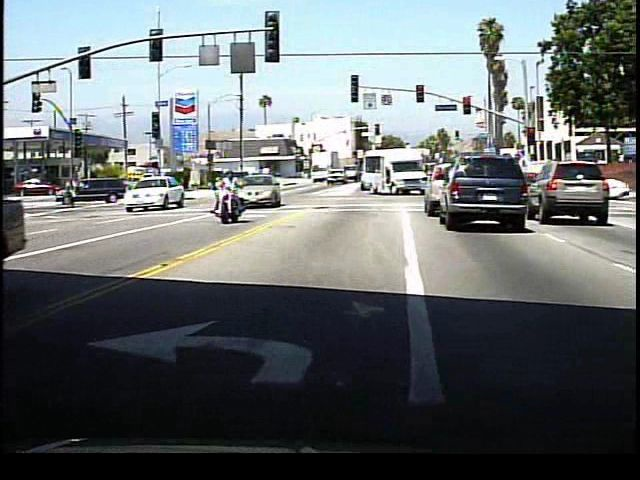person: (215, 172, 247, 225)
